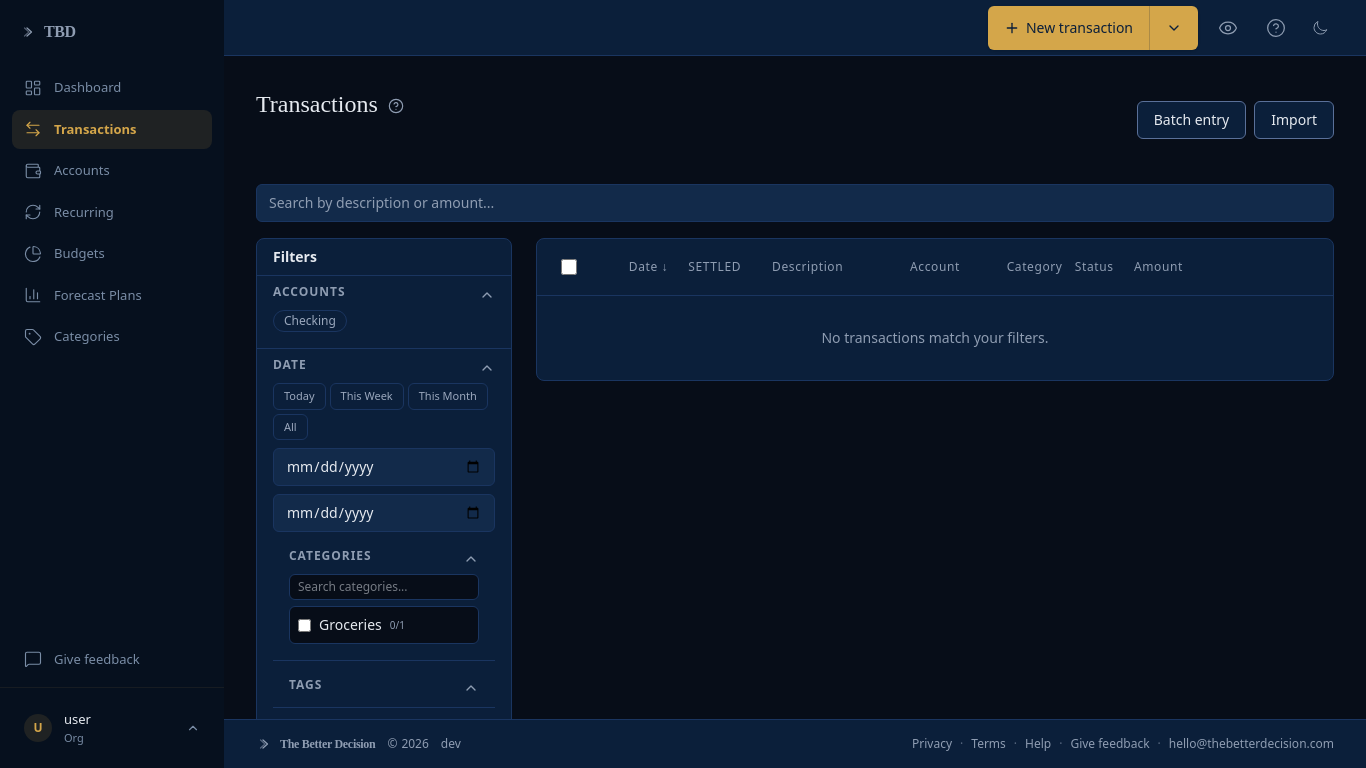
Test: TransactionsPage — sort direction across columns (Option B) › Switching from Date (desc) to Description applies the column's natural default (asc)
Click the button "Description" at [808, 267], box x1=752 y1=251 x2=863 y2=283
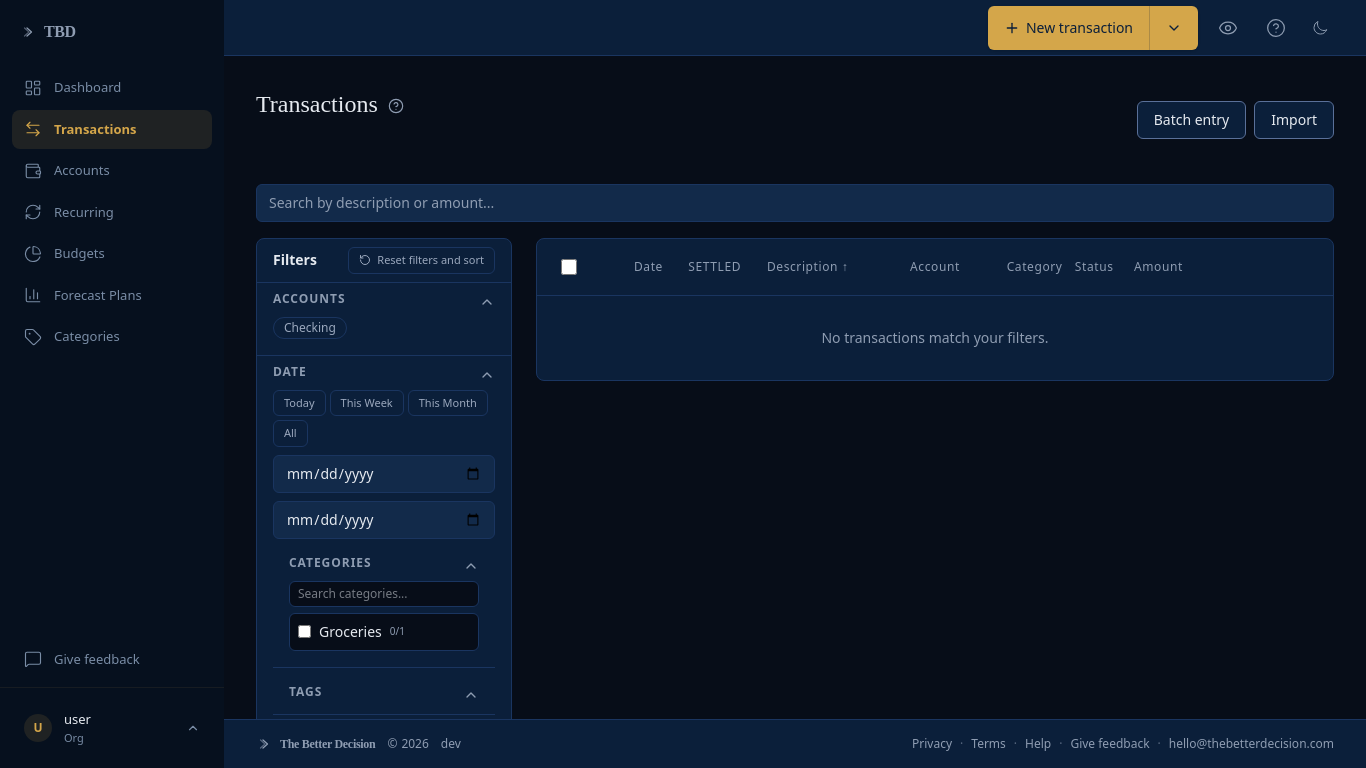
Now the button "Description ↑" is shown, box x1=752 y1=251 x2=863 y2=283
